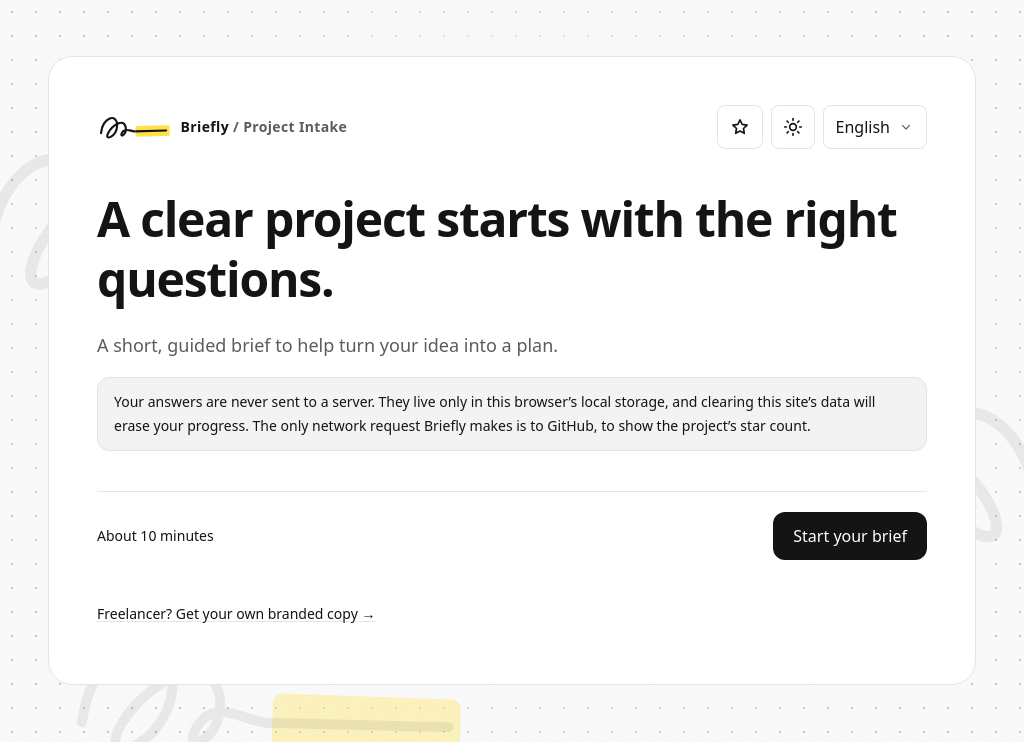
Scenario: Briefly flow › keeps a typed answer when "Not sure yet" is toggled on and off
Click the button "Start your brief". click: {"x": 850, "y": 536}
box: 773,512 -> 927,560
(page scrolled)
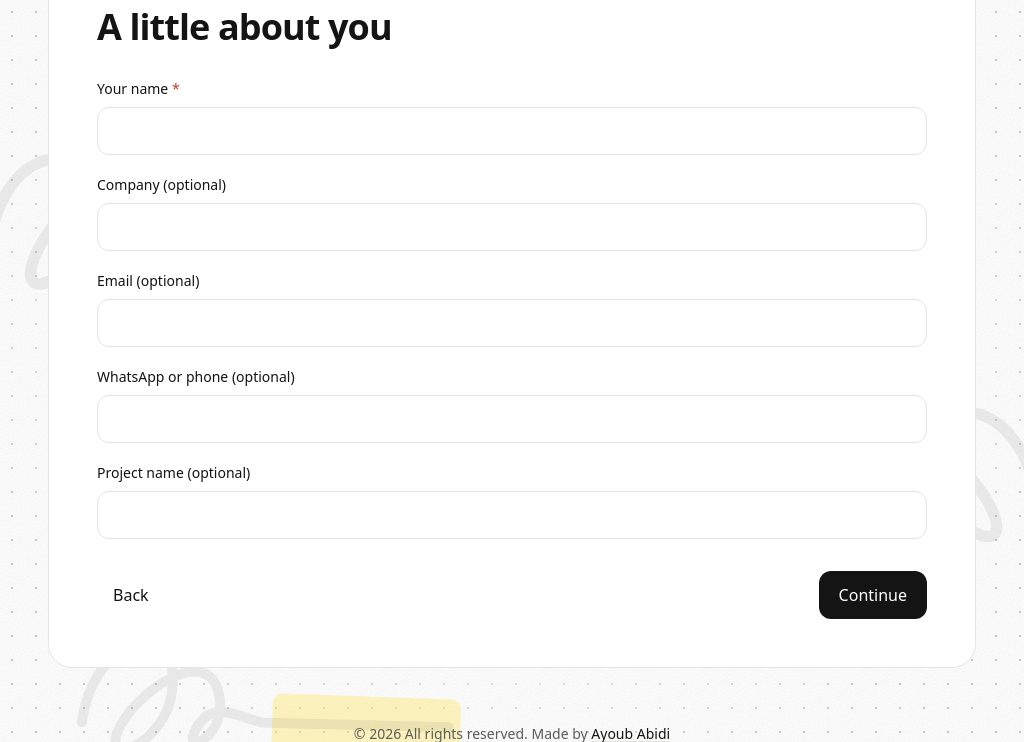
Click the button "Continue". click: {"x": 873, "y": 595}
box: 819,571 -> 927,619
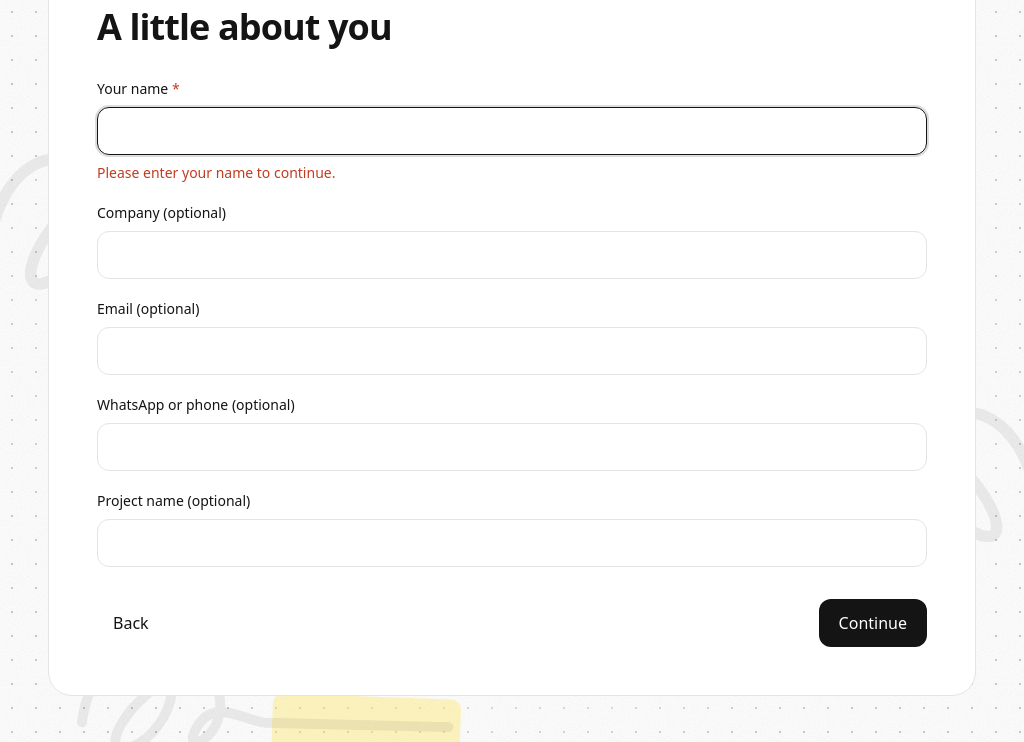
Check: the text "Please enter your name to continue." is shown, box 97,163 -> 335,182
Type "Client One" into the field labelled "Your name *". click: {"x": 512, "y": 131}
box: 97,107 -> 927,155
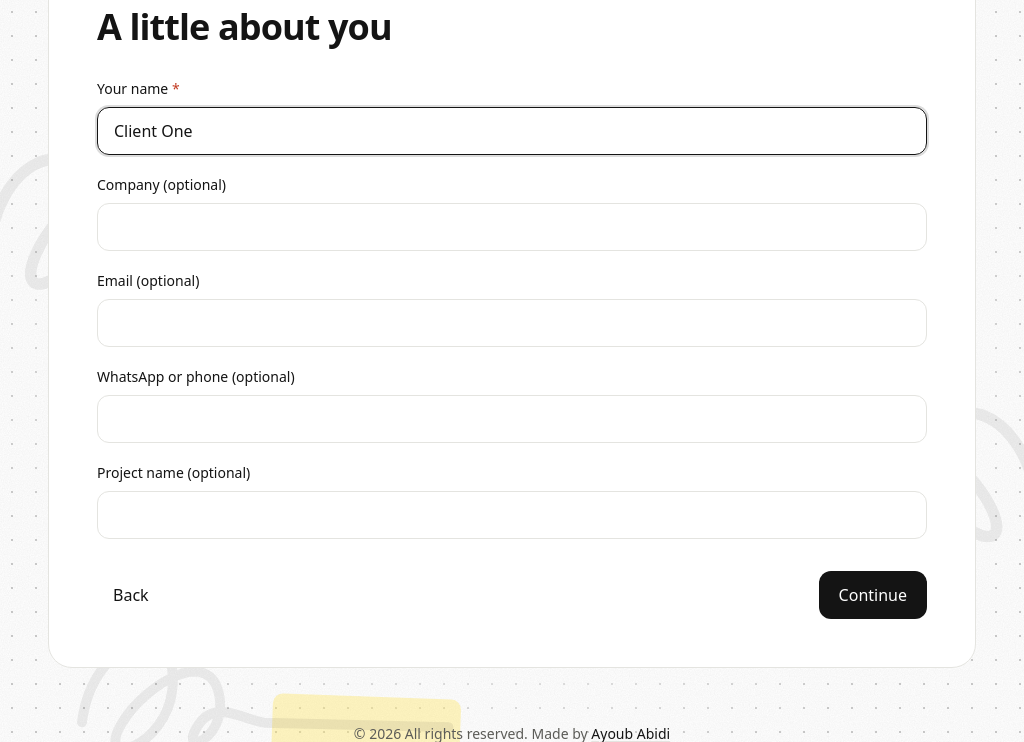
Click the button "Continue". click: {"x": 873, "y": 595}
box: 819,571 -> 927,619
(page scrolled)
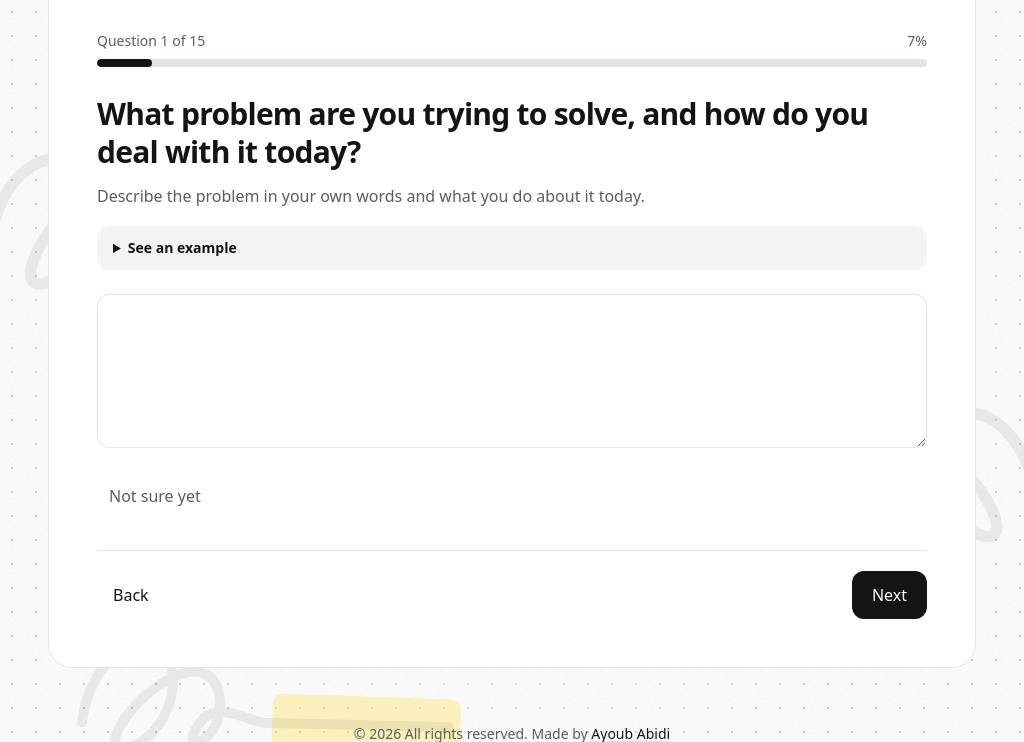
Type "Draft thoughts" into the text box named "What problem are you trying to solve, and how do you deal with it today?". click: {"x": 512, "y": 371}
box: 97,294 -> 927,448
Click the button "Not sure yet". click: {"x": 155, "y": 496}
box: 97,474 -> 213,518
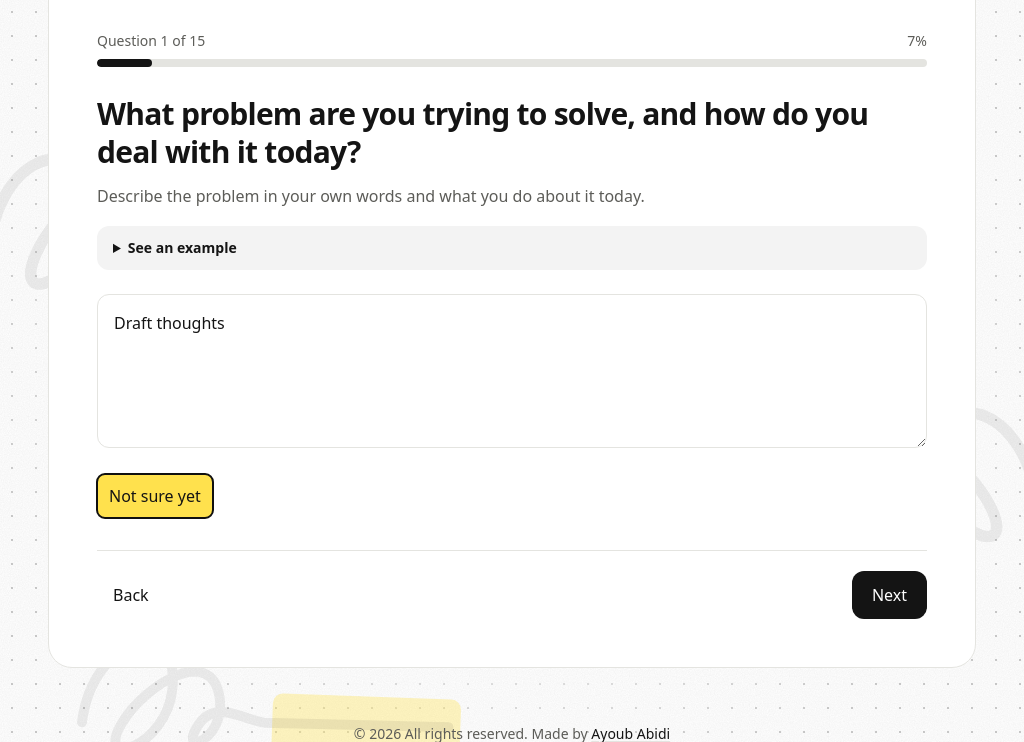
Check: the button "Not sure yet" is pressed
Click the button "Not sure yet". click: {"x": 155, "y": 496}
box: 97,474 -> 213,518
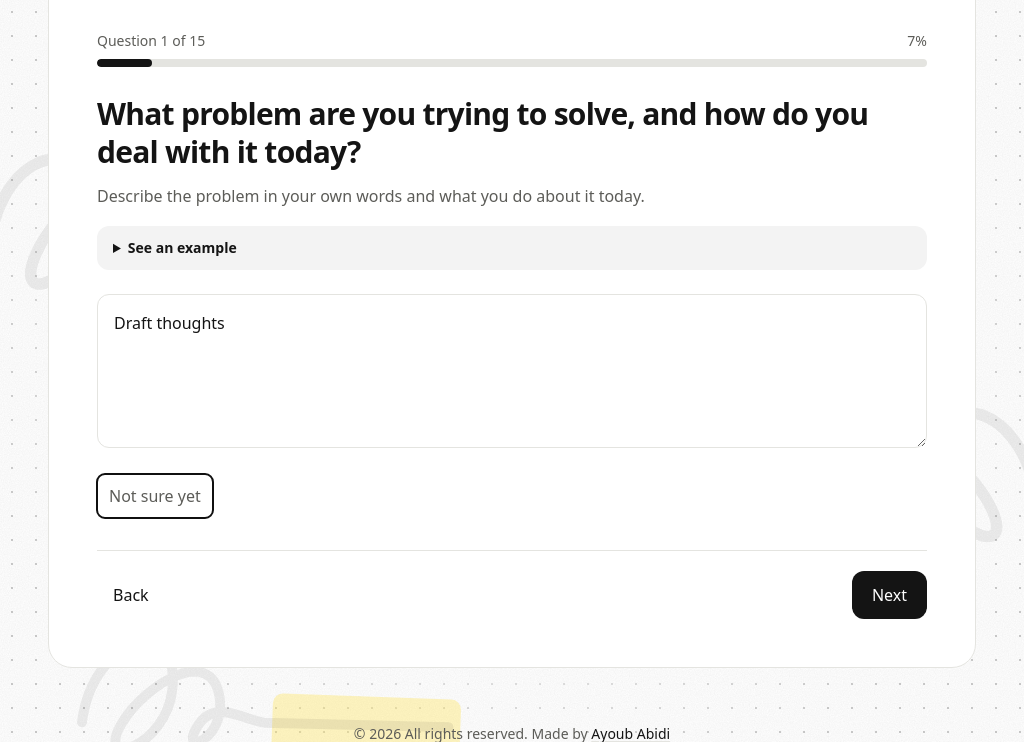
Check: the button "Not sure yet" is not pressed, box 97,474 -> 213,518
